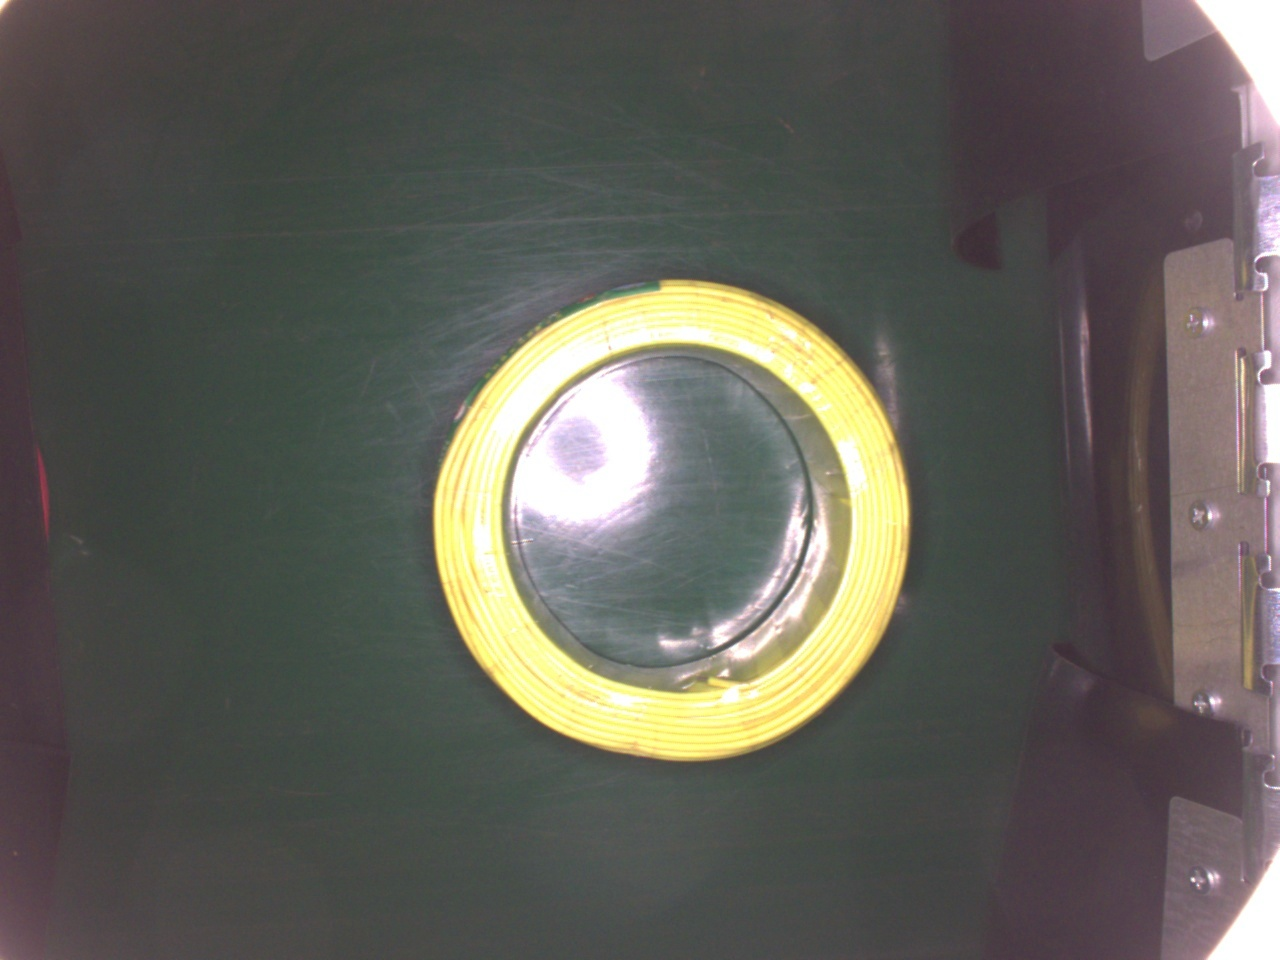yellow: (434, 277, 910, 764)
